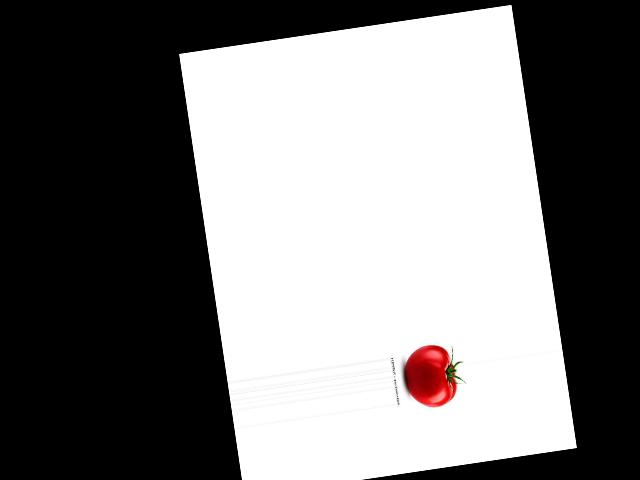tomato: (401, 342, 458, 410)
